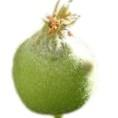fruit: (12, 5, 95, 115)
